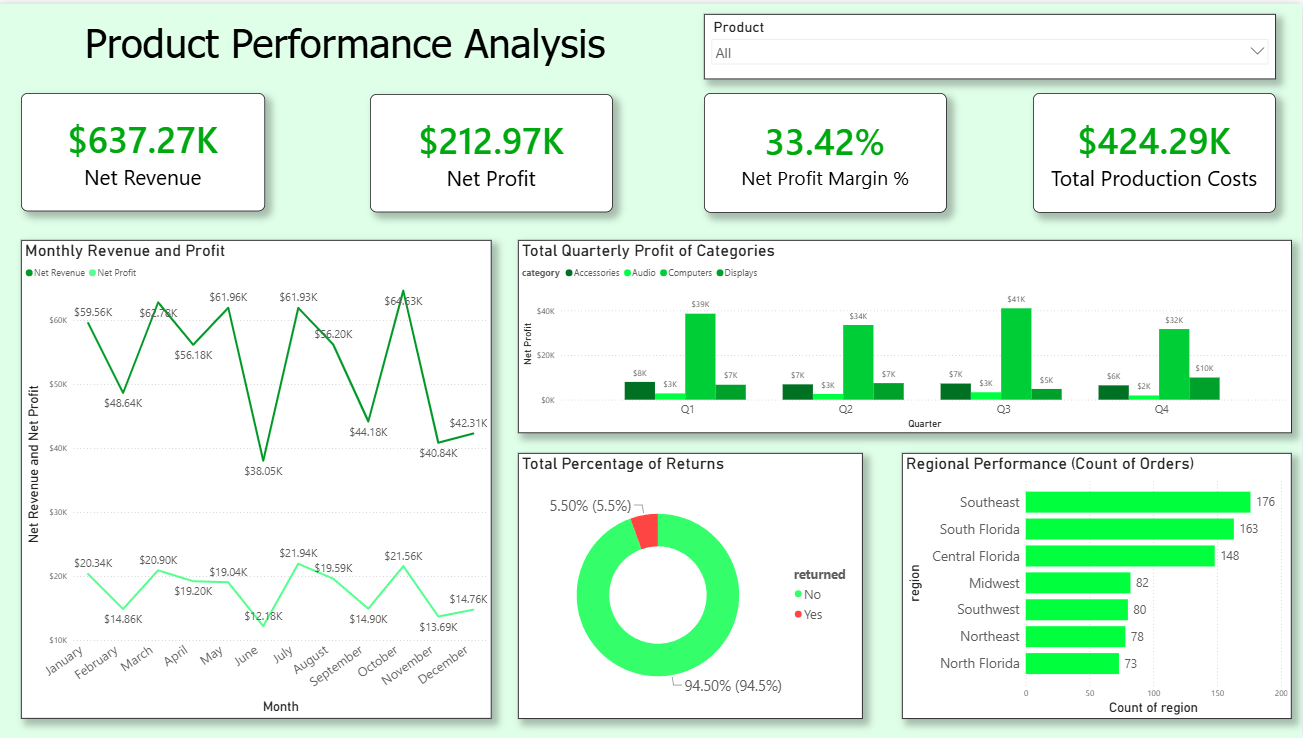

What the dashboard file says about the page in this screenshot:
{"tool":"powerbi","page":{"name":"Page 1","canvas":[1920,1080],"ordinal":0},"visuals":[{"type":"textbox","box":[117.6,14.7,788.2,89.7],"z":0},{"type":"cardVisual","fields":{"Data":["Sales_Data.Net Revenue"]},"box":[35.5,130.3,358.6,174.2],"z":1000},{"type":"cardVisual","fields":{"Data":["Sales_Data.Net Profit"]},"box":[548.1,131.9,356.9,174.2],"z":2000},{"type":"cardVisual","fields":{"Data":["Sales_Data.Net Profit Margin %"]},"box":[1040.4,130.3,356.9,175.9],"z":3000},{"type":"lineChart","title":"Monthly Revenue and Profit","fields":{"Category":["Sales_Data.order_date.Variation.Date Hierarchy.Month"],"Y":["Sales_Data.Net Revenue","Sales_Data.Net Profit"]},"box":[35.5,346.8,691.9,703.7],"z":4000},{"type":"cardVisual","fields":{"Data":["Sales_Data.Total Production Costs"]},"box":[1524.2,130.3,356.9,175.9],"z":5000},{"type":"barChart","title":"Regional Performance (Count of Orders)","fields":{"Category":["Sales_Data.region"],"Y":["CountNonNull(Sales_Data.region)"]},"box":[1331.3,659.7,573.5,390.8],"z":6000},{"type":"clusteredColumnChart","title":"Total Quarterly Profit of Categories","fields":{"Y":["Sales_Data.Net Profit"],"Category":["Sales_Data.quarter","Sales_Data.month"],"Series":["Sales_Data.category"]},"box":[766.3,346.8,1138.5,284.2],"z":7000},{"type":"donutChart","title":"Total Percentage of Returns","fields":{"Category":["Sales_Data.returned"],"Y":["CountNonNull(Sales_Data.returned)"]},"box":[766.3,659.7,507.5,390.8],"z":8000},{"type":"slicer","fields":{"Values":["Sales_Data.product"]},"box":[1040.4,15.2,840.7,96.4],"z":9000}]}

Visuals, with their boxes in screenshot pixels (x1, y1, x2, y2), scaled from the page's 1920x1080 canvas onto the 1303x738 screenshot:
textbox: crop(80, 10, 615, 71)
cardVisual - Sales_Data.Net Revenue: crop(24, 89, 267, 208)
cardVisual - Sales_Data.Net Profit: crop(372, 90, 614, 209)
cardVisual - Sales_Data.Net Profit Margin %: crop(706, 89, 948, 209)
"Monthly Revenue and Profit" lineChart: crop(24, 237, 494, 718)
cardVisual - Sales_Data.Total Production Costs: crop(1034, 89, 1277, 209)
"Regional Performance (Count of Orders)" barChart: crop(903, 451, 1293, 718)
"Total Quarterly Profit of Categories" clusteredColumnChart: crop(520, 237, 1293, 431)
"Total Percentage of Returns" donutChart: crop(520, 451, 864, 718)
slicer - Sales_Data.product: crop(706, 10, 1277, 76)
